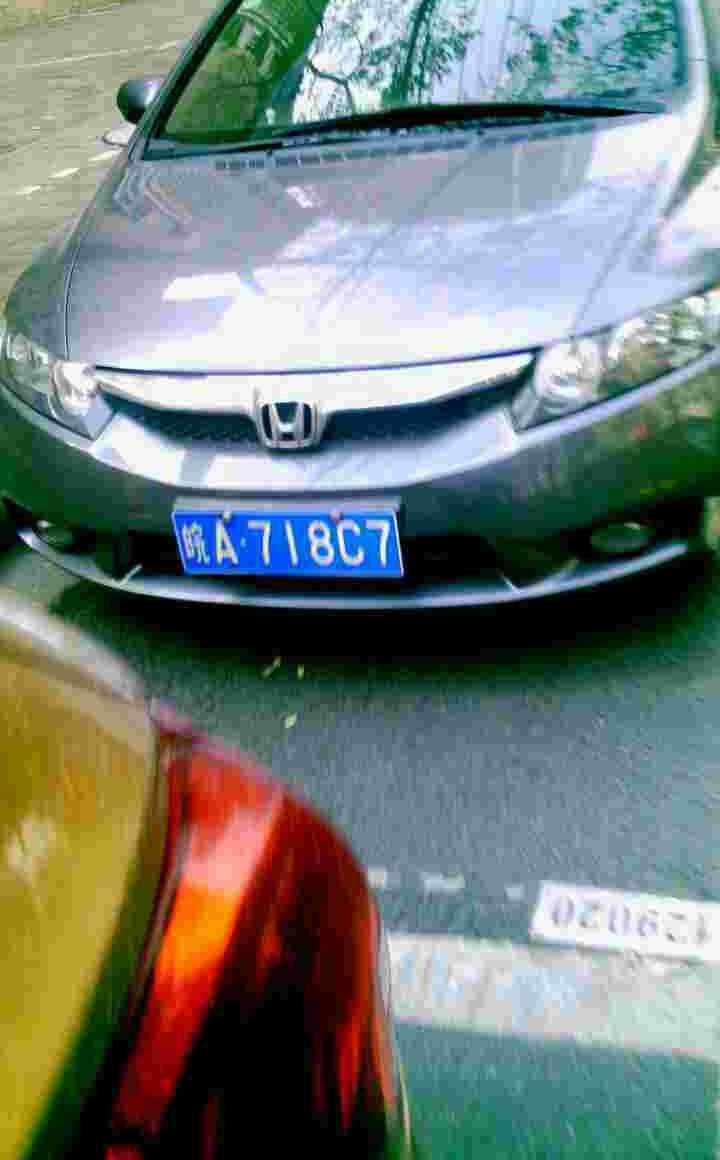license_plate: (170, 507, 411, 575)
